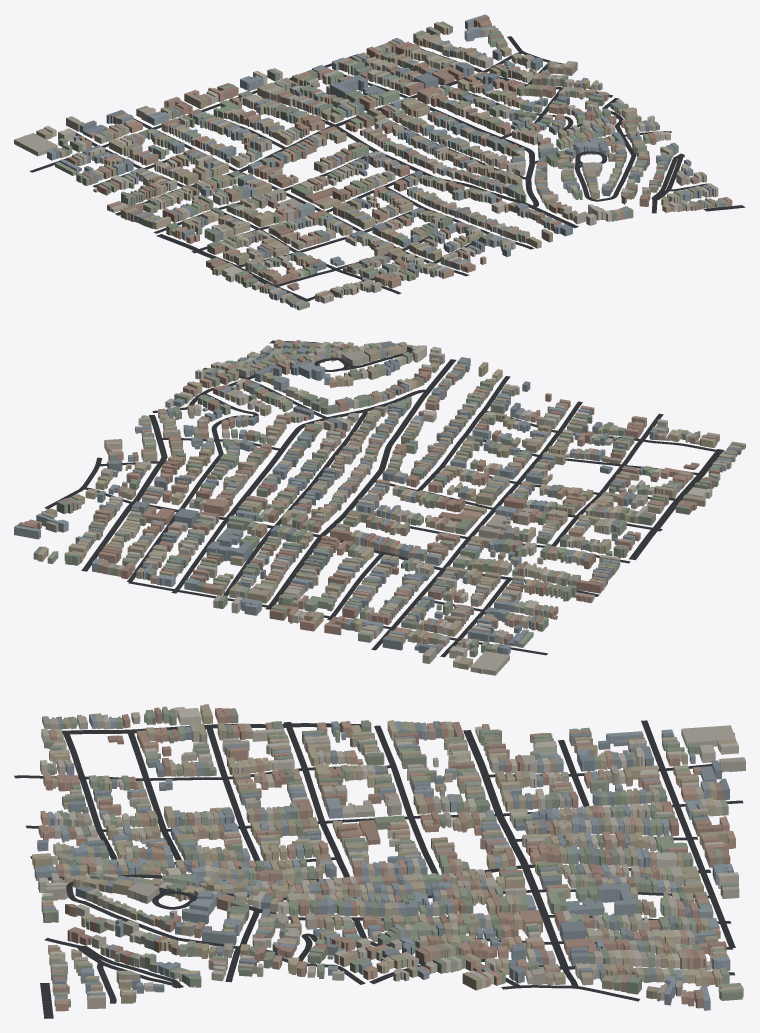
Rendered from tile_8_14.glb.
The picture shows the model from 3 angles, top to bottom: view 1: azimuth 30°, elevation 25°; view 2: azimuth 150°, elevation 25°; view 3: azimuth 270°, elevation 25°; orthographic projection. The views are drawn at different scales.
Parts seen in each view (by area): view 1: bld_8_14, road_8_14; view 2: bld_8_14, road_8_14; view 3: bld_8_14, road_8_14.
Part boxes in pixels (left/top/right/bottom): bld_8_14: left=14, top=14, right=732, bottom=310; road_8_14: left=29, top=36, right=745, bottom=301; bld_8_14: left=14, top=339, right=745, bottom=675; road_8_14: left=44, top=340, right=724, bottom=657; bld_8_14: left=32, top=704, right=745, bottom=1011; road_8_14: left=14, top=720, right=743, bottom=1018.
Size of the model in its own units: 864 by 94.49 by 851.
